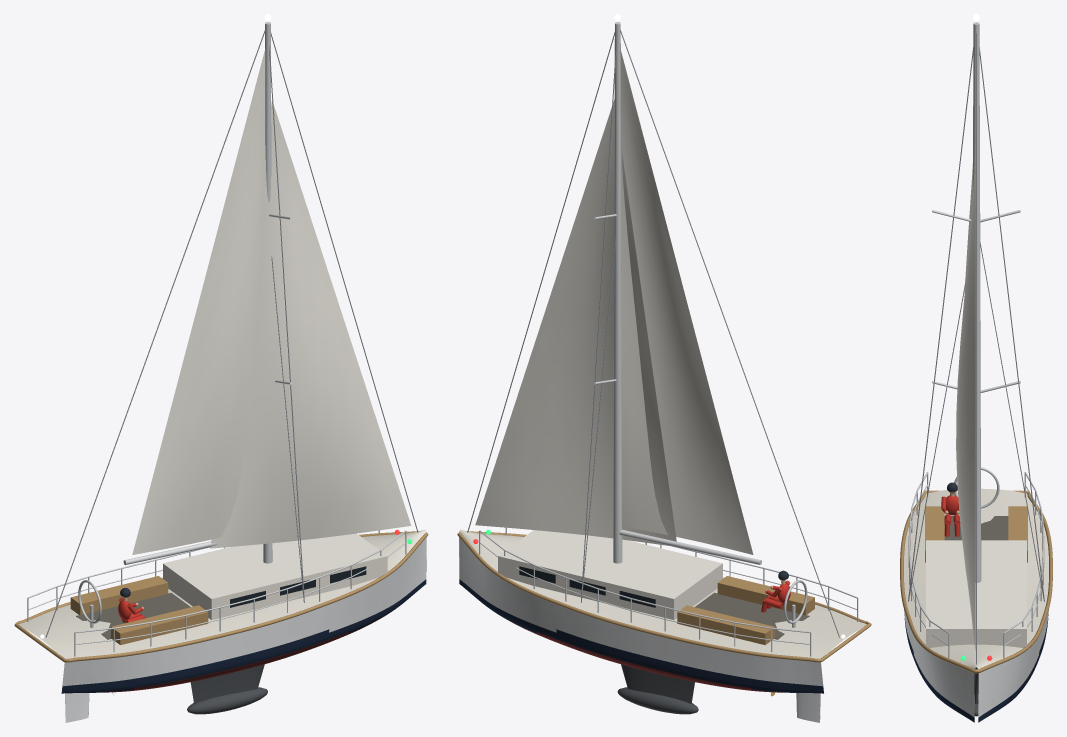
File: sailboat.glb
The picture shows the model from 3 angles, left to right: view 1: azimuth 30°, elevation 25°; view 2: azimuth 150°, elevation 25°; view 3: azimuth 270°, elevation 25°; orthographic projection. The views are drawn at different scales.
Parts seen in each view (by area): view 1: sail_jib, sail_main, hull, coachroof, deck, standing_rigging, toe_rail, cockpit_bench_s, cockpit_bench_p, lifelines_s, fin_keel, cockpit_sole (+5 smaller); view 2: sail_jib, sail_main, hull, coachroof, deck, mast, standing_rigging, toe_rail, cockpit_bench_p, lifelines_p, cockpit_sole, fin_keel (+6 smaller); view 3: coachroof, deck, sail_jib, hull, standing_rigging, mast, toe_rail, lifelines_p, lifelines_s, cockpit_sole, cockpit_bench_p, cockpit_bench_s (+2 smaller).
Boxes of the visible parts, x1,y1,x2,y2 form: sail_jib: (210,100,411,548); sail_main: (132,49,265,554); hull: (61,537,426,693); coachroof: (163,533,387,619); deck: (18,529,426,658); standing_rigging: (45,23,418,637); toe_rail: (14,531,428,662); cockpit_bench_s: (111,605,208,644); cockpit_bench_p: (70,576,168,615); lifelines_s: (74,530,406,656); fin_keel: (190,664,264,703); cockpit_sole: (76,592,190,639); sail_jib: (475,99,676,546); sail_main: (620,49,753,554); hull: (459,537,823,693); coachroof: (498,530,722,619); deck: (459,529,866,658); mast: (613,22,622,563); standing_rigging: (467,23,839,637); toe_rail: (457,531,871,662); cockpit_bench_p: (677,605,774,644); lifelines_p: (479,530,811,656); cockpit_sole: (695,592,809,639); fin_keel: (621,664,694,703); coachroof: (926,540,1026,650); deck: (904,488,1048,669); sail_jib: (956,125,975,650); hull: (904,609,1048,722); standing_rigging: (908,23,1044,664); mast: (973,22,981,582); toe_rail: (900,490,1052,673); lifelines_p: (1003,472,1044,658); lifelines_s: (908,472,949,658); cockpit_sole: (944,516,1008,540); cockpit_bench_p: (1008,506,1027,562); cockpit_bench_s: (925,506,944,562).
Bounding box in the file's own units: 10.58 × 17.85 × 3.49.
